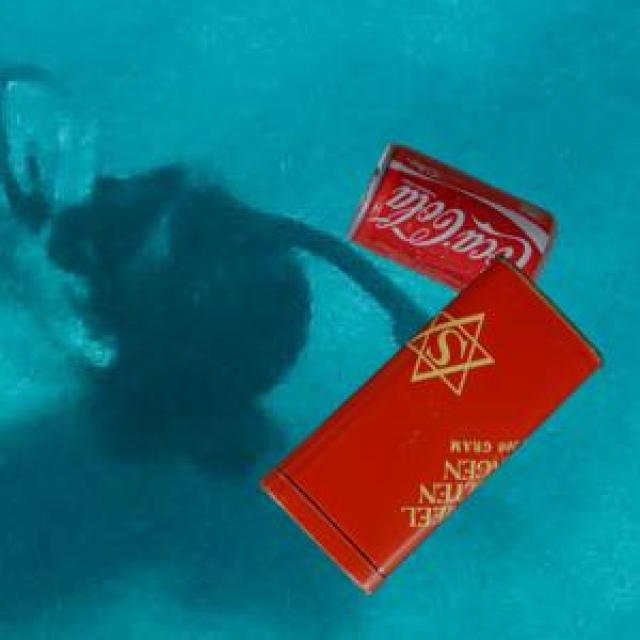logam: (257, 253, 601, 590), (342, 140, 554, 289)
